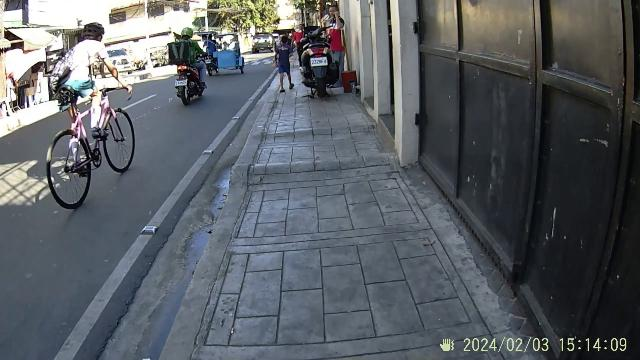motorcycle: (298, 21, 338, 99), (173, 62, 207, 108)
